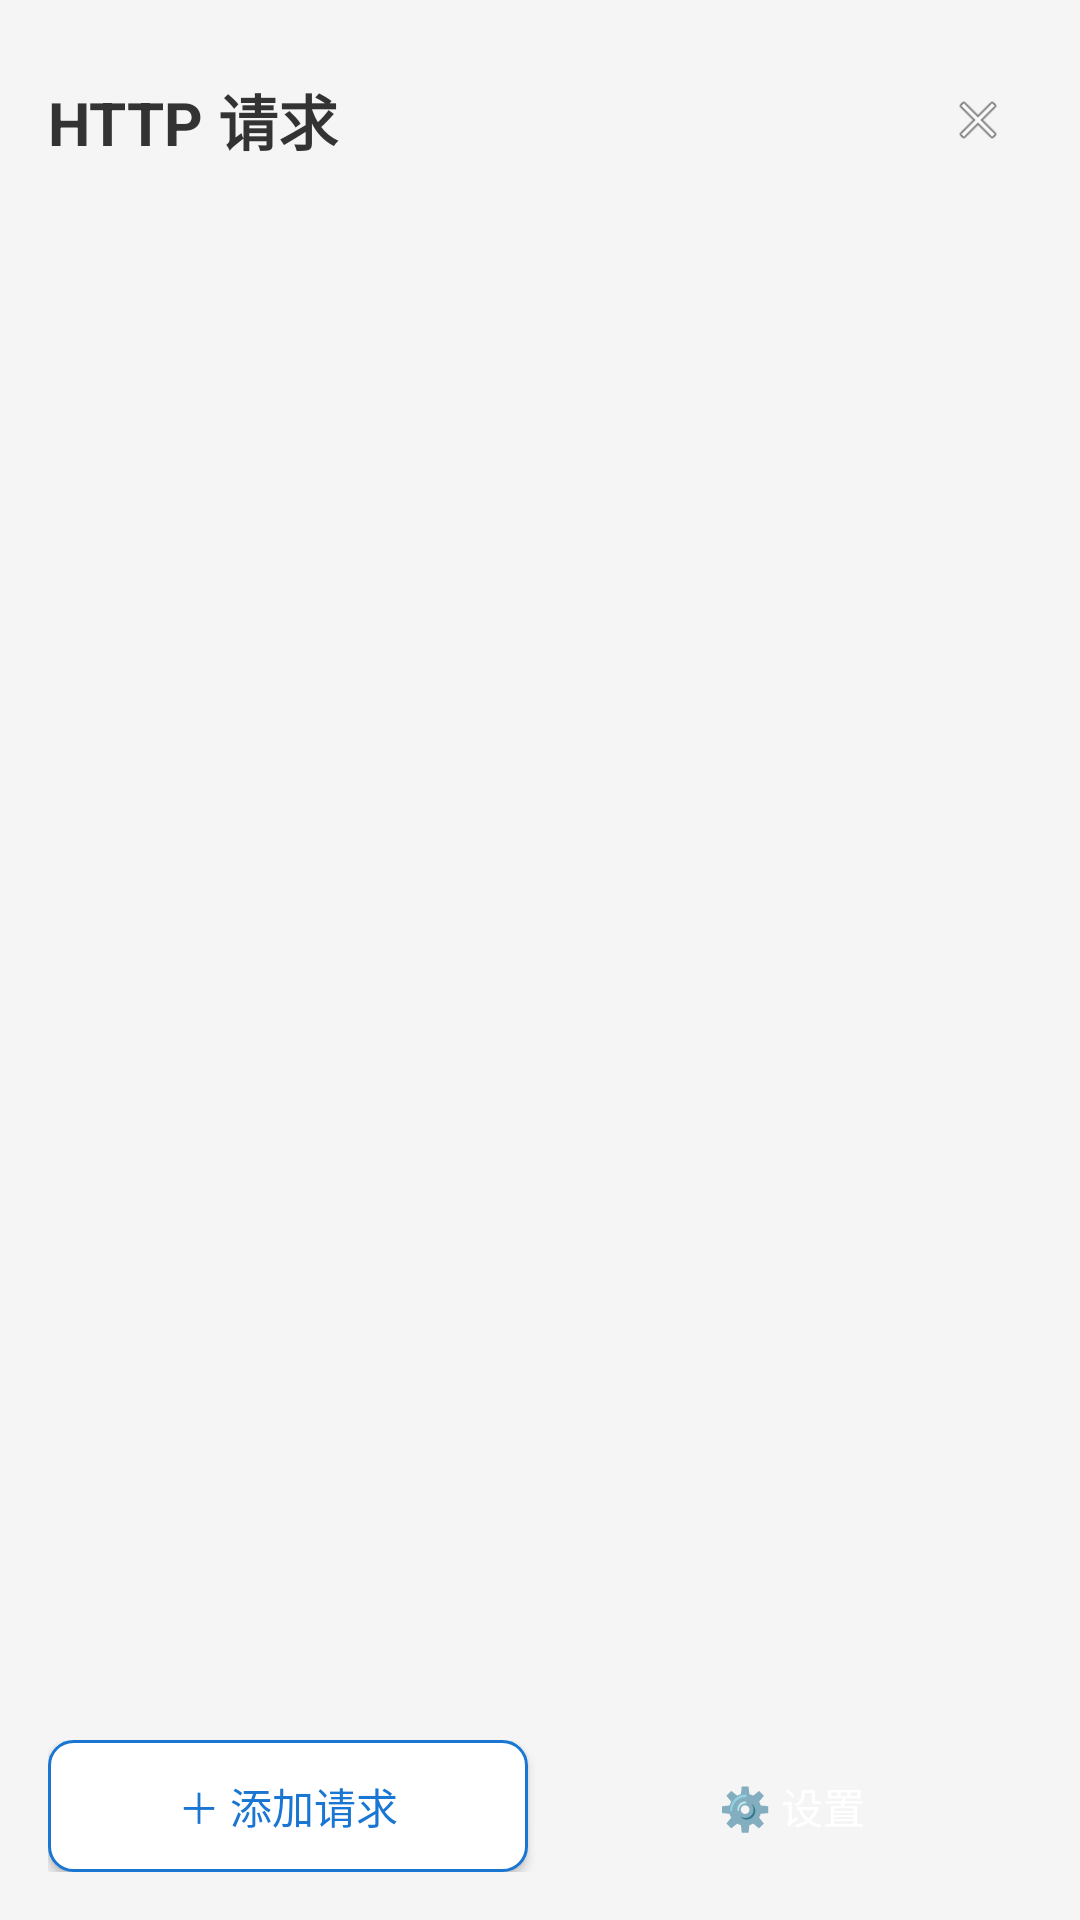

Named icons in this screenshot (1080*1920) and their centers, (x=x, y=y):
关闭: (x=978, y=120)
